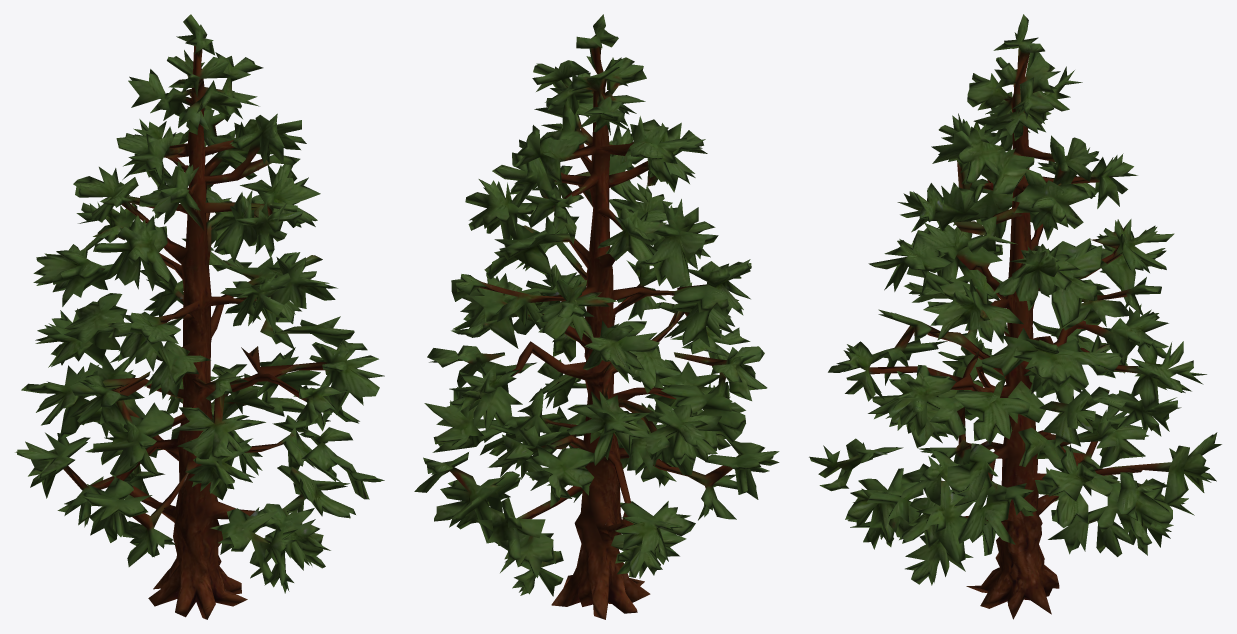
The model's file is pine.glb.
The picture shows the model from 3 angles, left to right: view 1: azimuth 30°, elevation 25°; view 2: azimuth 150°, elevation 25°; view 3: azimuth 270°, elevation 25°; orthographic projection.
Visible parts, largest first — view 1: tripo_node_e8306bb6-451c-4086-b509-ee3564ad0729; view 2: tripo_node_e8306bb6-451c-4086-b509-ee3564ad0729; view 3: tripo_node_e8306bb6-451c-4086-b509-ee3564ad0729.
Boxes of the visible parts, bbox=[...] form: tripo_node_e8306bb6-451c-4086-b509-ee3564ad0729: bbox=[15, 14, 384, 619]; tripo_node_e8306bb6-451c-4086-b509-ee3564ad0729: bbox=[414, 14, 779, 619]; tripo_node_e8306bb6-451c-4086-b509-ee3564ad0729: bbox=[809, 14, 1221, 619].
Size of the model in its own units: 0.5253 by 1 by 0.6434.
Materials: 1 (1 with a texture image).
